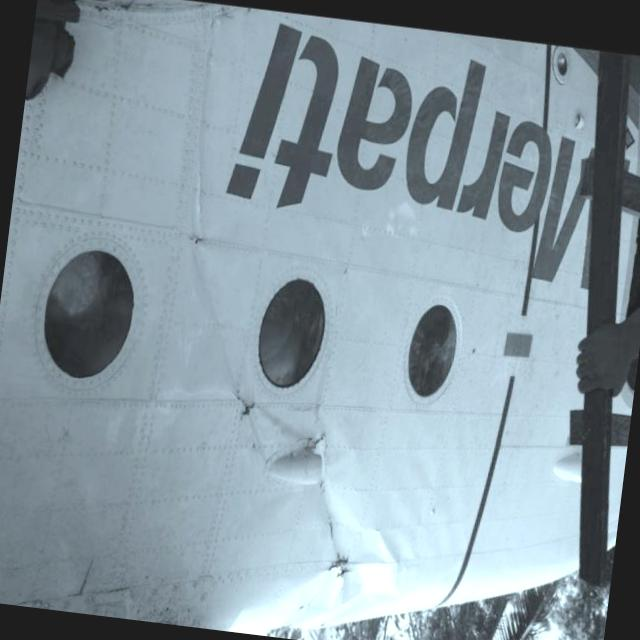crack: (312, 518, 358, 582)
dent: (281, 502, 414, 640)
